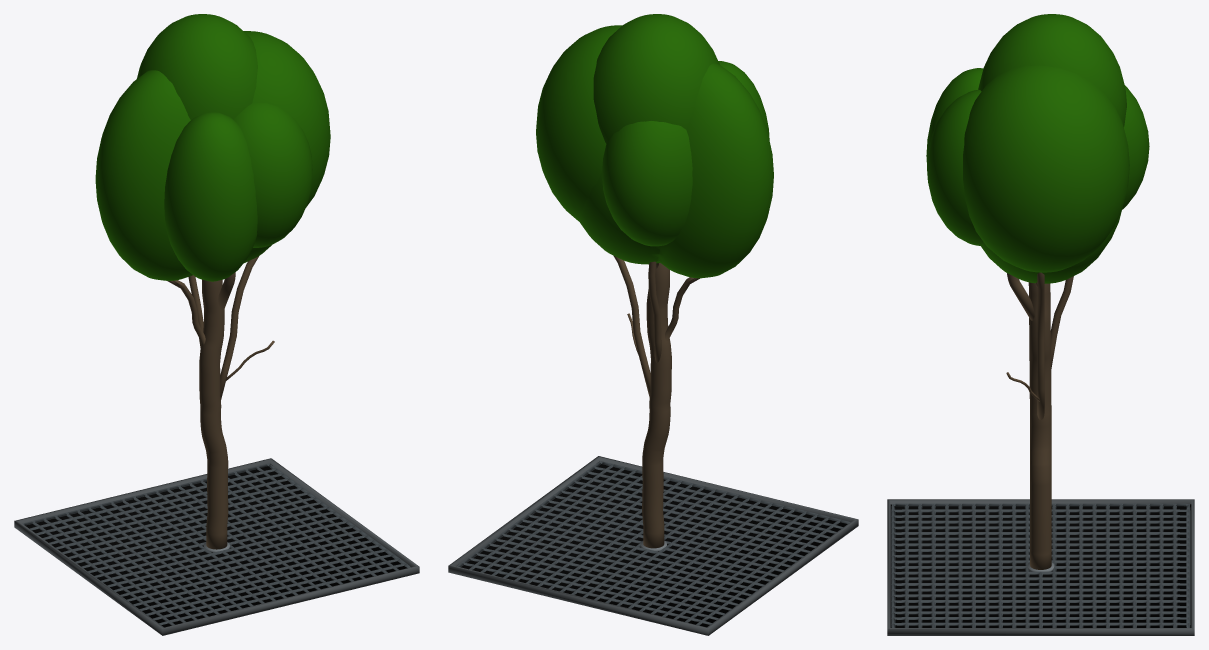
Rendered from Tree.fbx.
3 views of the same model, side by side, from view 1: azimuth 30°, elevation 25°; view 2: azimuth 150°, elevation 25°; view 3: azimuth 270°, elevation 25° (orthographic). The views are drawn at different scales.
Visible parts, largest first — view 1: Sphere.001, Cube, Cube.001, Cylinder, Cylinder.003; view 2: Sphere.001, Cube, Cube.001, Cylinder, Cylinder.003, Cylinder.004; view 3: Sphere.001, Cube, Cube.001, Cylinder, Cylinder.003, Cylinder.004, Cylinder.002.
Part boxes in pixels (x1,y1,x2,y2): Sphere.001: (95,14,330,281); Cube: (22,463,410,627); Cube.001: (14,458,419,635); Cylinder: (167,279,228,549); Cylinder.003: (220,256,258,400); Sphere.001: (536,14,773,278); Cube: (457,461,850,627); Cube.001: (448,456,858,635); Cylinder: (642,263,699,548); Cylinder.003: (613,255,650,397); Cylinder.004: (648,261,661,362); Sphere.001: (926,14,1149,283); Cube: (891,503,1190,627); Cube.001: (887,499,1194,635); Cylinder: (1028,282,1051,569); Cylinder.003: (1037,272,1044,419); Cylinder.004: (1050,276,1073,369); Cylinder.002: (1007,273,1034,320).
Bounding box in the file's own units: 203 × 400 × 203.
